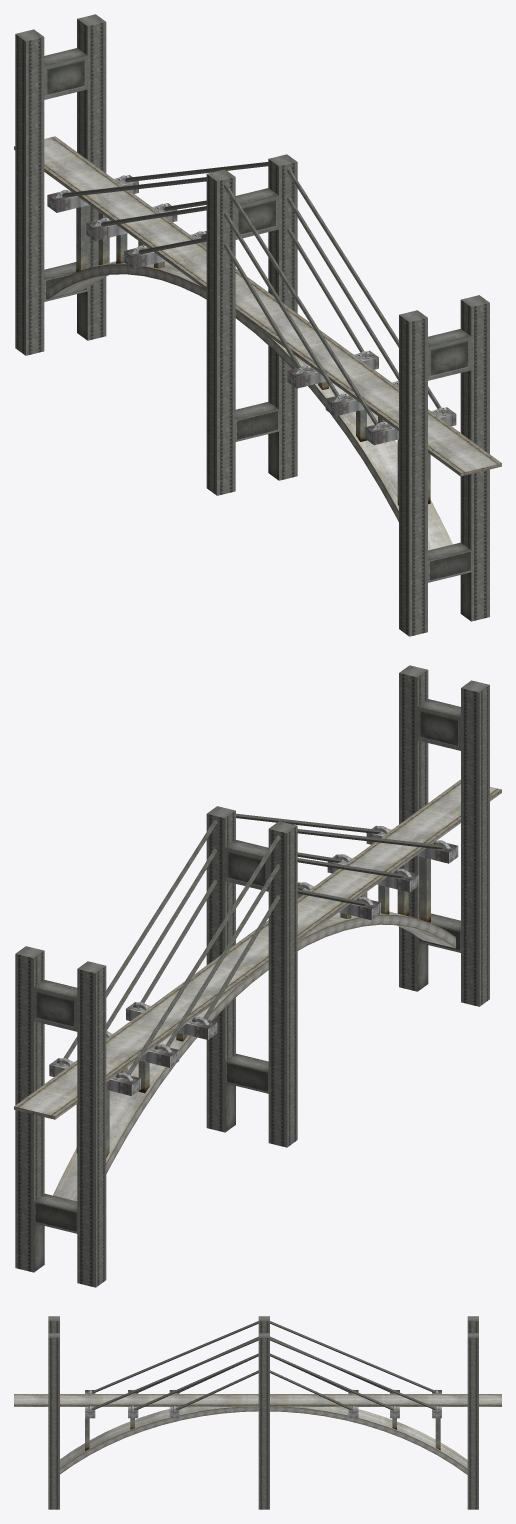
Rendered from new bridge.fbx.
3 views of the same model, one above another, from view 1: azimuth 30°, elevation 25°; view 2: azimuth 150°, elevation 25°; view 3: azimuth 270°, elevation 25° (orthographic). The views are drawn at different scales.
Visible parts, largest first — view 1: polySurface739, polySurface738, polySurface719, polySurface717, polySurface718, polySurface752, polySurface753, polySurface756, polySurface754, polySurface737, polySurface744, polySurface735 (+5 smaller); view 2: polySurface719, polySurface738, polySurface739, polySurface717, polySurface718, polySurface758, polySurface759, polySurface762, polySurface760, polySurface726, polySurface752, polySurface728 (+4 smaller); view 3: polySurface717, polySurface718, polySurface719, polySurface738, polySurface739, polySurface752, polySurface753, polySurface758, polySurface759, polySurface760, polySurface754, polySurface755 (+1 smaller).
Part boxes in pixels (x1,y1,x2,y2): polySurface739: [399, 295, 489, 636]; polySurface738: [206, 154, 297, 495]; polySurface719: [15, 14, 106, 355]; polySurface717: [14, 136, 501, 476]; polySurface718: [49, 261, 452, 550]; polySurface752: [224, 184, 381, 429]; polySurface753: [287, 168, 444, 413]; polySurface756: [224, 212, 339, 397]; polySurface754: [287, 197, 398, 380]; polySurface737: [287, 350, 378, 388]; polySurface744: [76, 205, 87, 271]; polySurface735: [364, 407, 456, 445]; polySurface719: [15, 946, 106, 1287]; polySurface738: [206, 806, 297, 1147]; polySurface739: [399, 665, 489, 1006]; polySurface717: [14, 779, 501, 1119]; polySurface718: [53, 911, 455, 1201]; polySurface758: [122, 835, 280, 1080]; polySurface759: [59, 820, 217, 1065]; polySurface762: [162, 864, 280, 1051]; polySurface760: [106, 848, 217, 1030]; polySurface726: [126, 1002, 217, 1039]; polySurface752: [297, 829, 443, 849]; polySurface728: [49, 1058, 140, 1095]; polySurface717: [14, 1394, 501, 1406]; polySurface718: [60, 1407, 467, 1474]; polySurface719: [467, 1316, 478, 1509]; polySurface738: [258, 1316, 269, 1509]; polySurface739: [48, 1316, 59, 1509]; polySurface752: [91, 1321, 258, 1393]; polySurface753: [91, 1338, 258, 1410]; polySurface758: [270, 1321, 439, 1393]; polySurface759: [270, 1338, 439, 1410]; polySurface760: [270, 1353, 396, 1409]; polySurface754: [134, 1353, 258, 1410]; polySurface755: [175, 1370, 258, 1410].
Bounding box in the file's own units: 3271 × 11938 × 30754.
3 materials, 3 textured.
